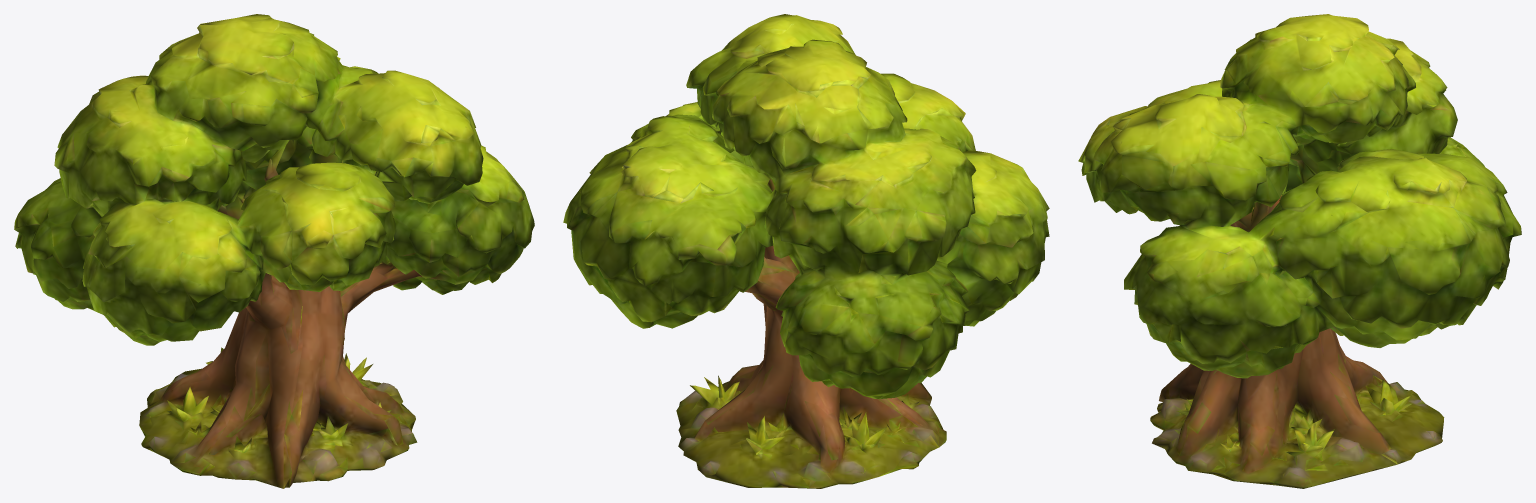
File: tree-golden-canopy.glb
3 views of the same model, side by side, from view 1: azimuth 30°, elevation 25°; view 2: azimuth 150°, elevation 25°; view 3: azimuth 270°, elevation 25° (orthographic). The views are drawn at different scales.
Visible parts, largest first — view 1: Mesh1.0; view 2: Mesh1.0; view 3: Mesh1.0.
Boxes of the visible parts, box(x1,y1,x2,y2) form: Mesh1.0: box(14, 14, 534, 488); Mesh1.0: box(563, 14, 1049, 488); Mesh1.0: box(1078, 14, 1521, 488).
Size of the model in its own units: 1.89 by 1.74 by 1.76.
1 material, 1 textured.
